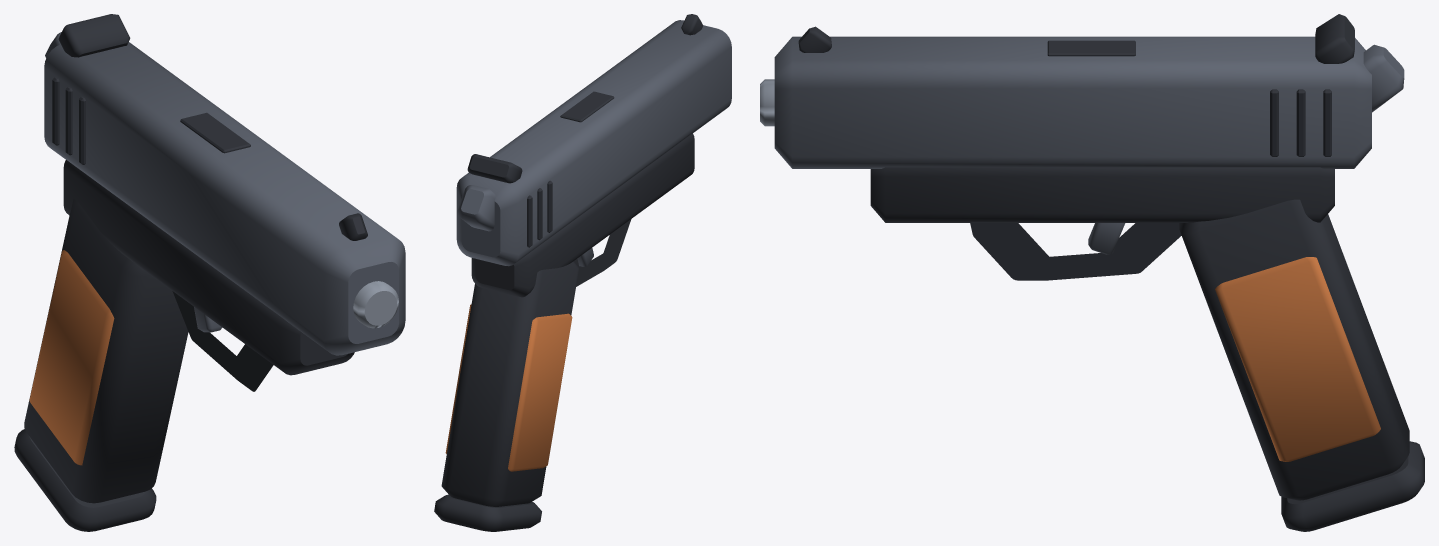
File: pistolet.glb
3 renders of one model, left to right at view 1: azimuth 30°, elevation 25°; view 2: azimuth 150°, elevation 25°; view 3: azimuth 270°, elevation 25°, orthographic. The views are drawn at different scales.
Visible parts, largest first — view 1: culasse, corps, chargeur; view 2: corps, culasse, chargeur; view 3: culasse, corps, chargeur, detente.
Boxes of the visible parts, left/top/right/bottom form: culasse: left=44, top=14, right=405, bottom=355; corps: left=24, top=32, right=398, bottom=503; chargeur: left=14, top=429, right=156, bottom=531; corps: left=441, top=133, right=694, bottom=506; culasse: left=456, top=14, right=731, bottom=266; chargeur: left=434, top=494, right=541, bottom=531; culasse: left=774, top=14, right=1371, bottom=168; corps: left=760, top=44, right=1409, bottom=500; chargeur: left=1281, top=441, right=1424, bottom=531; detente: left=1088, top=223, right=1125, bottom=254.
Bounding box in the file's own units: 0.035 × 0.1843 × 0.2255.
